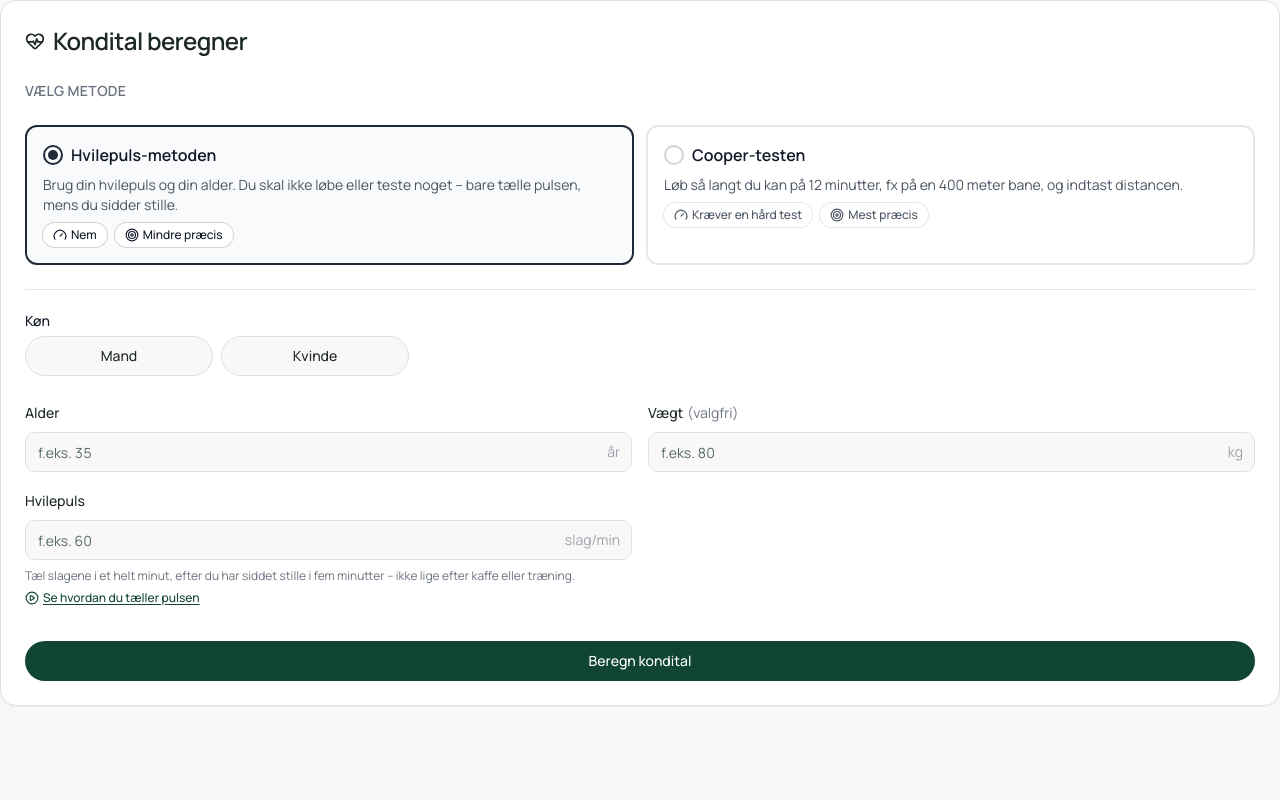
KonditalCalculator › calculates from the resting pulse and shows the bands for the visitor's age group
The width and height of the screenshot is (1280, 800).
Click the button "Mand" at x=119, y=356, box x1=25 y1=336 x2=213 y2=376
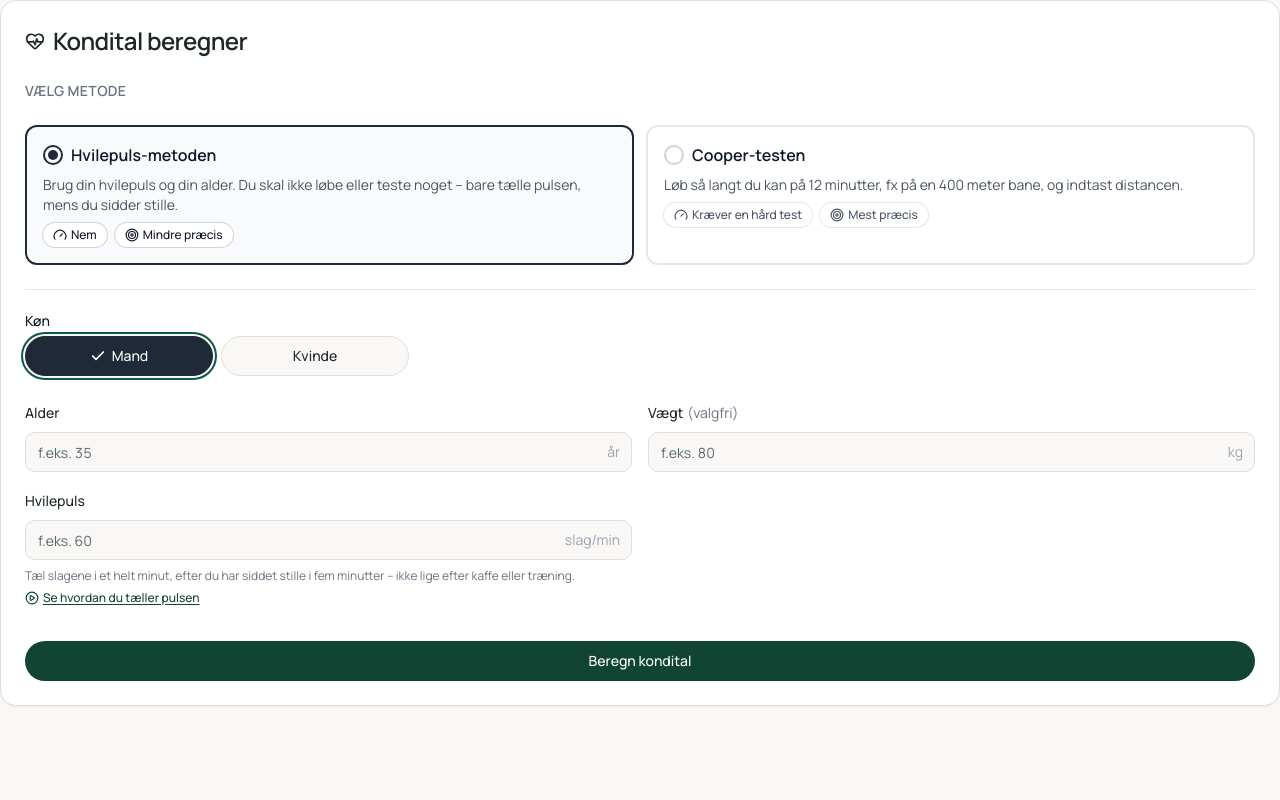
Type "35" into the field labelled "Alder" at x=328, y=452, box x1=25 y1=432 x2=632 y2=472
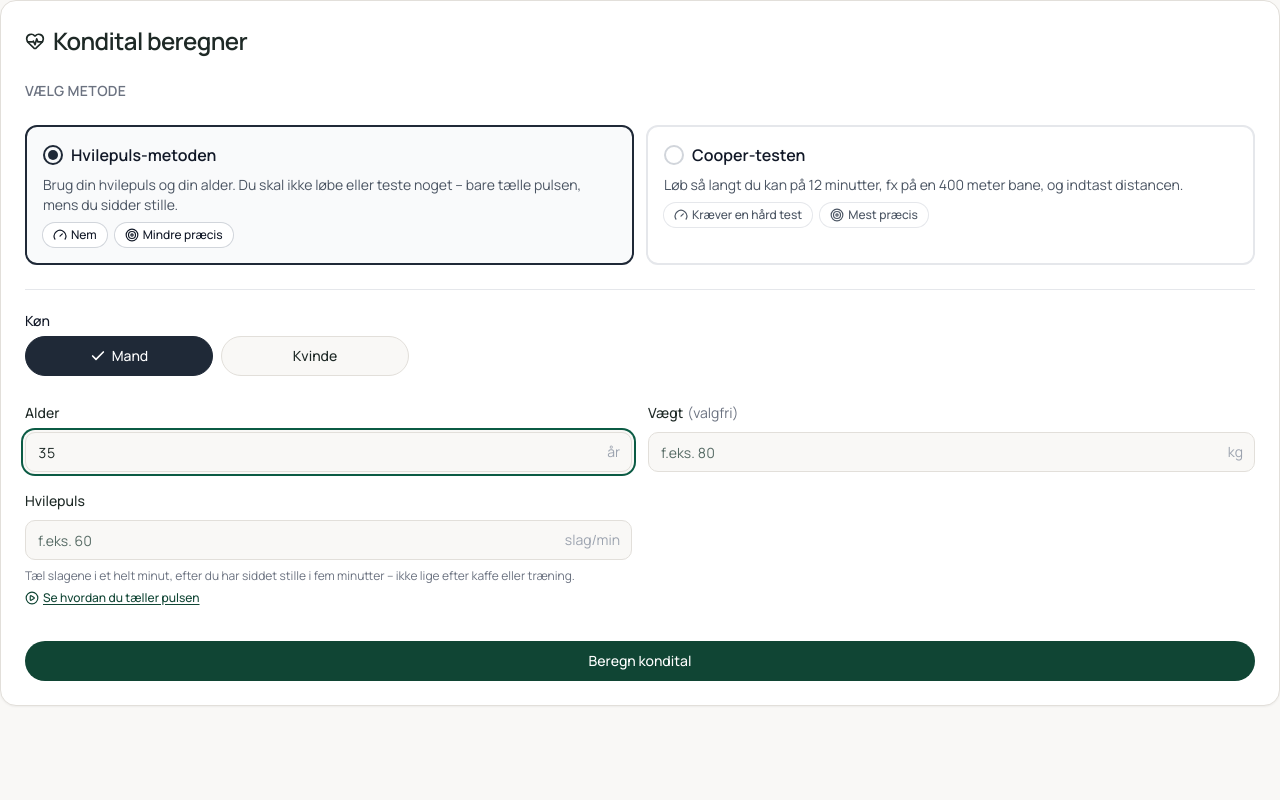
Type "58" into the field labelled "Hvilepuls" at x=328, y=540, box x1=25 y1=520 x2=632 y2=560
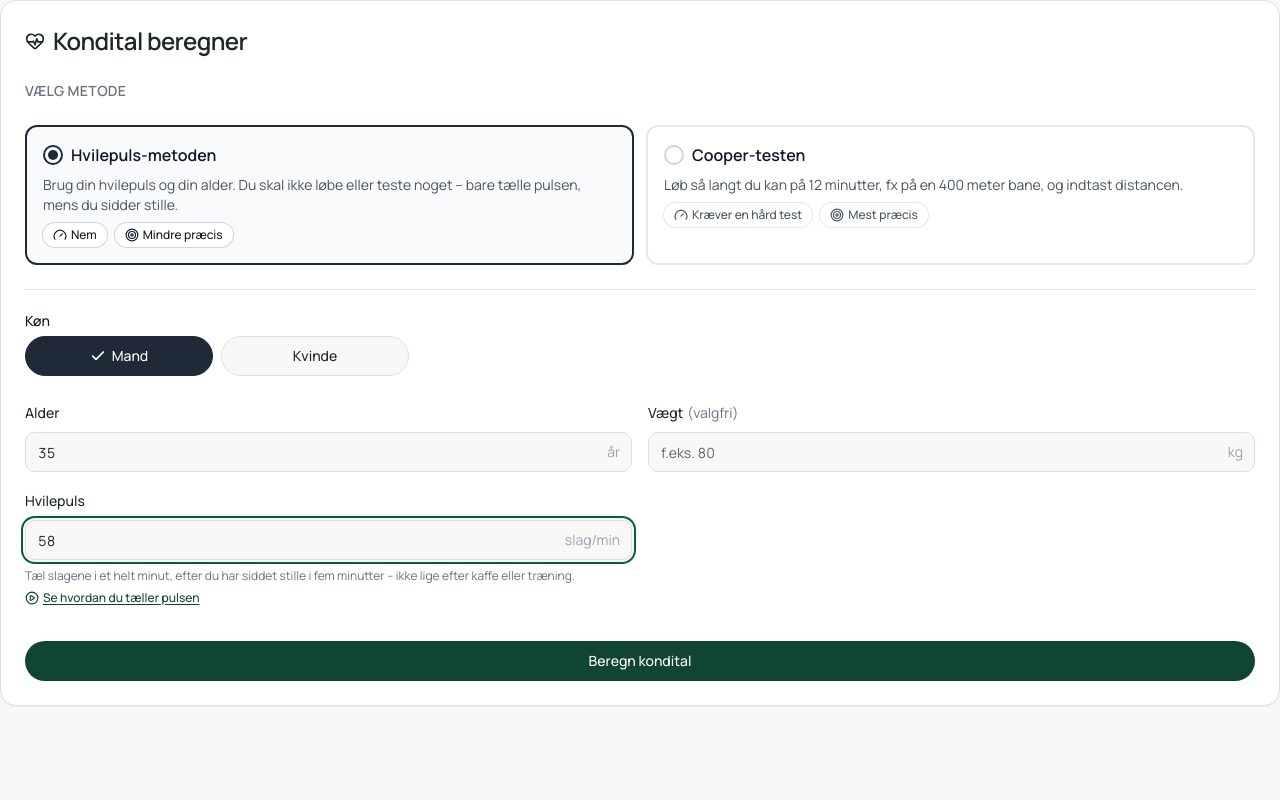
Click the button "Beregn kondital" at x=640, y=661, box x1=25 y1=641 x2=1255 y2=681
(page scrolled)
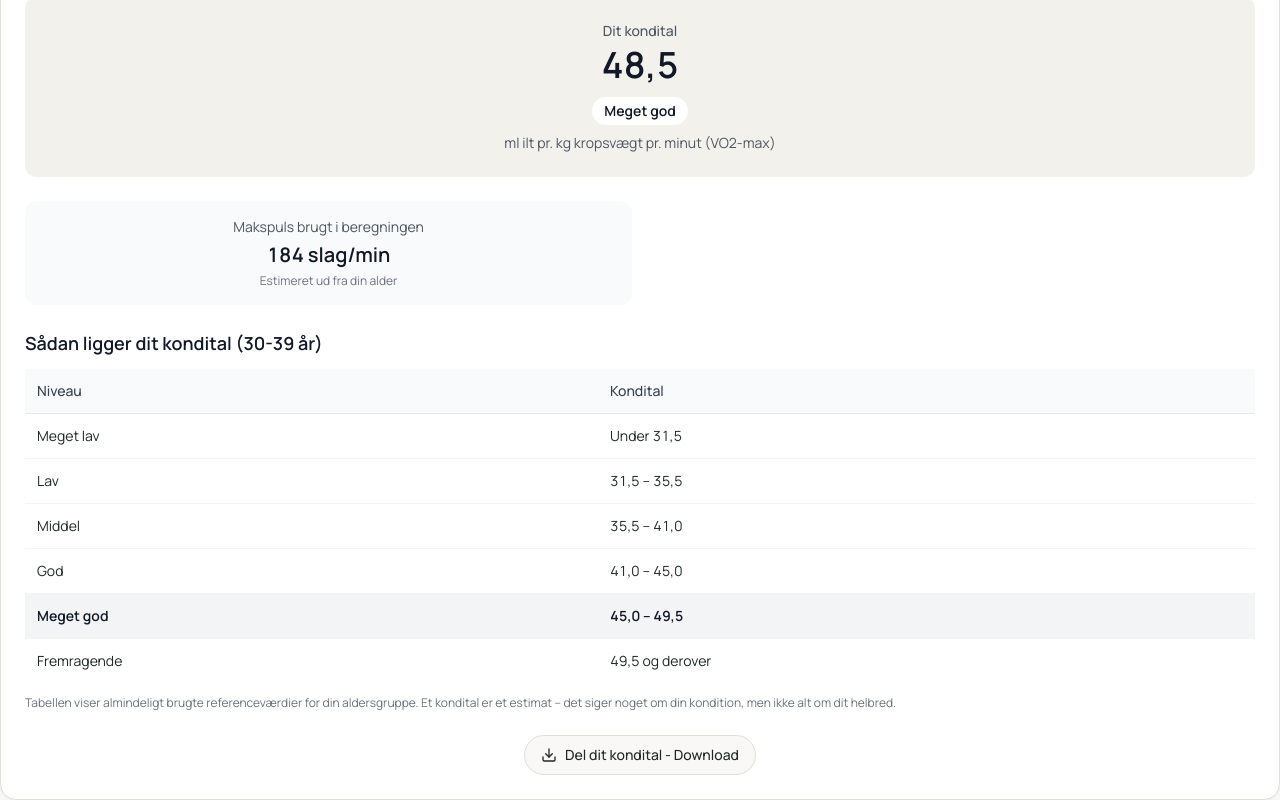
Check: the text "48,5" is shown, box x1=601 y1=40 x2=679 y2=89
Check: the text "Meget god" is shown, box x1=592 y1=97 x2=688 y2=125
Check: the heading "Sådan ligger dit kondital (30-39 år)" is shown, box x1=25 y1=331 x2=323 y2=355
